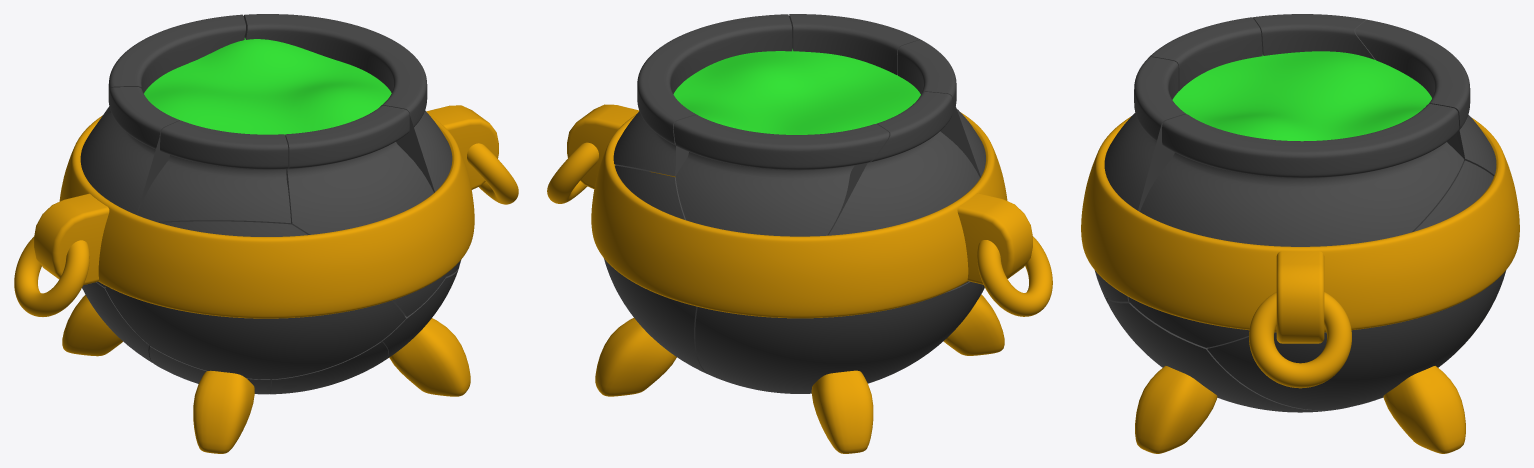
Rendered from calderoVerde.fbx.
3 views of the same model, side by side, from view 1: azimuth 30°, elevation 25°; view 2: azimuth 150°, elevation 25°; view 3: azimuth 270°, elevation 25° (orthographic). The views are drawn at different scales.
Parts seen in each view (by area): view 1: Sphere.002, Circle.076, Sphere_cell.016, Sphere_cell.023, Sphere_cell.015, Sphere_cell.022, Sphere_cell.019, Cube.2127, BézierCircle.001, Sphere_cell.013, Plane.569, Plane.570 (+5 smaller); view 2: Sphere.002, Sphere_cell.013, Sphere_cell.014, Circle.076, Sphere_cell.019, Sphere_cell.022, Cube.2127, Sphere_cell.020, BézierCircle.001, Sphere_cell.023, Plane.568, Plane.154 (+2 smaller); view 3: Sphere.002, Sphere_cell.022, Circle.076, Sphere_cell.020, Sphere_cell.023, Sphere_cell.013, Sphere_cell.017, Plane.154, Plane.570, BézierCircle.001, Cube.2127, Sphere_cell.015 (+1 smaller).
Boxes of the visible parts, box(x1,y1,x2,y2) form: Sphere.002: box(59, 114, 474, 318); Circle.076: box(144, 38, 391, 135); Sphere_cell.016: box(105, 221, 405, 379); Sphere_cell.023: box(285, 105, 446, 316); Sphere_cell.015: box(136, 120, 290, 224); Sphere_cell.022: box(243, 14, 460, 276); Sphere_cell.019: box(80, 87, 180, 287); Cube.2127: box(34, 105, 498, 284); BézierCircle.001: box(14, 143, 518, 316); Sphere_cell.013: box(108, 14, 245, 93); Plane.569: box(193, 370, 254, 453); Plane.570: box(389, 318, 470, 396); Sphere.002: box(591, 112, 1007, 318); Sphere_cell.013: box(673, 115, 889, 236); Sphere_cell.014: box(695, 281, 982, 393); Circle.076: box(673, 49, 920, 134); Sphere_cell.019: box(827, 92, 979, 287); Sphere_cell.022: box(613, 14, 792, 176); Cube.2127: box(567, 104, 1032, 284); Sphere_cell.020: box(604, 165, 708, 374); BézierCircle.001: box(547, 142, 1052, 316); Sphere_cell.023: box(789, 14, 920, 75); Plane.568: box(811, 370, 873, 453); Plane.154: box(595, 318, 676, 396); Sphere.002: box(1081, 116, 1519, 332); Sphere_cell.022: box(1128, 104, 1464, 347); Circle.076: box(1172, 51, 1431, 141); Sphere_cell.020: box(1207, 160, 1506, 410); Sphere_cell.023: box(1096, 57, 1186, 301); Sphere_cell.013: box(1355, 20, 1496, 176); Sphere_cell.017: box(1107, 299, 1345, 412); Plane.154: box(1383, 366, 1465, 453); Plane.570: box(1135, 366, 1217, 453); BézierCircle.001: box(1249, 292, 1351, 388); Cube.2127: box(1276, 251, 1324, 343); Sphere_cell.015: box(1134, 17, 1262, 113).
Bounding box in the file's own units: 428 × 247 × 318.
